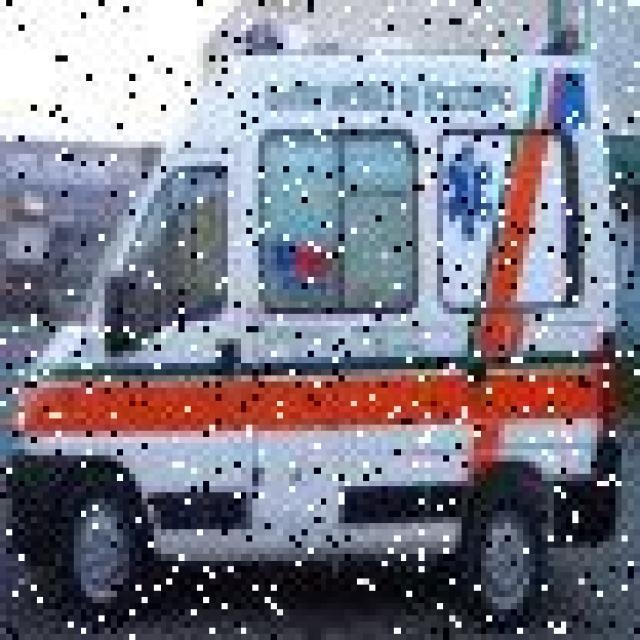emergency-vehicle: (18, 39, 634, 618)
